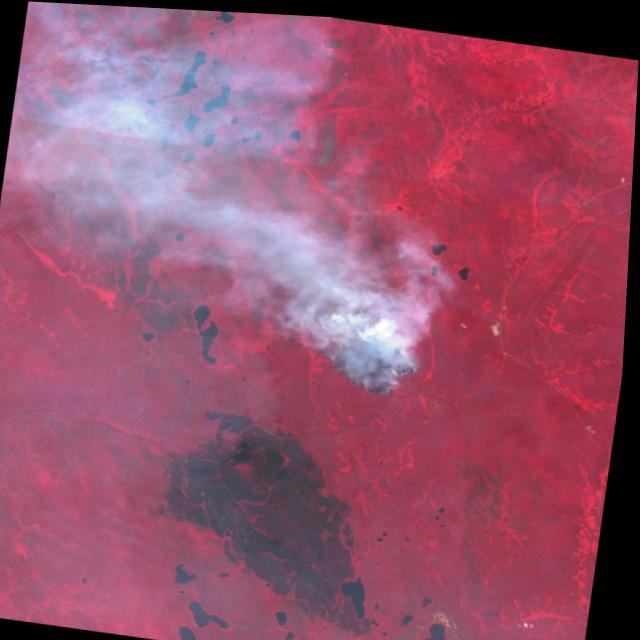fire: (319, 304, 436, 399)
